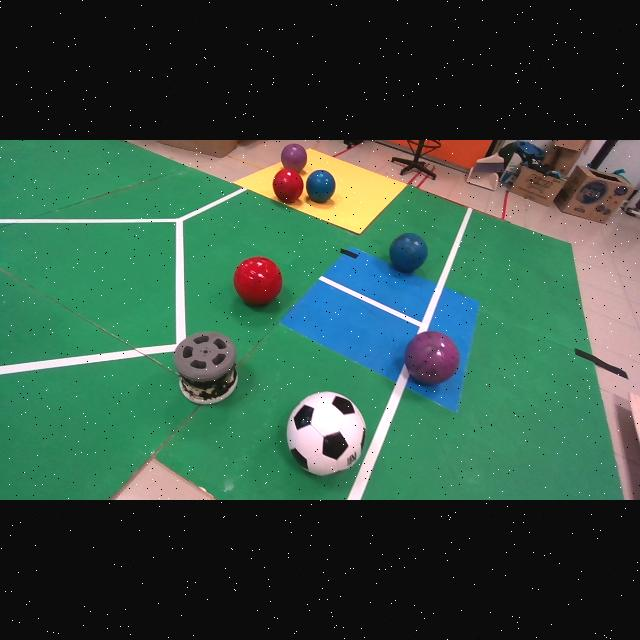B: (389, 233, 428, 273), (306, 170, 335, 203)
P: (405, 331, 460, 385), (281, 144, 307, 172)
R: (235, 257, 281, 305), (272, 168, 303, 203)
